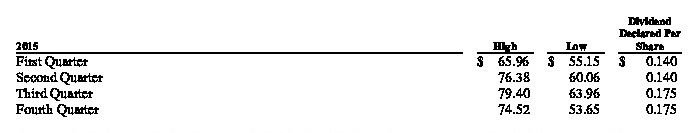table: (0, 0, 693, 133)
